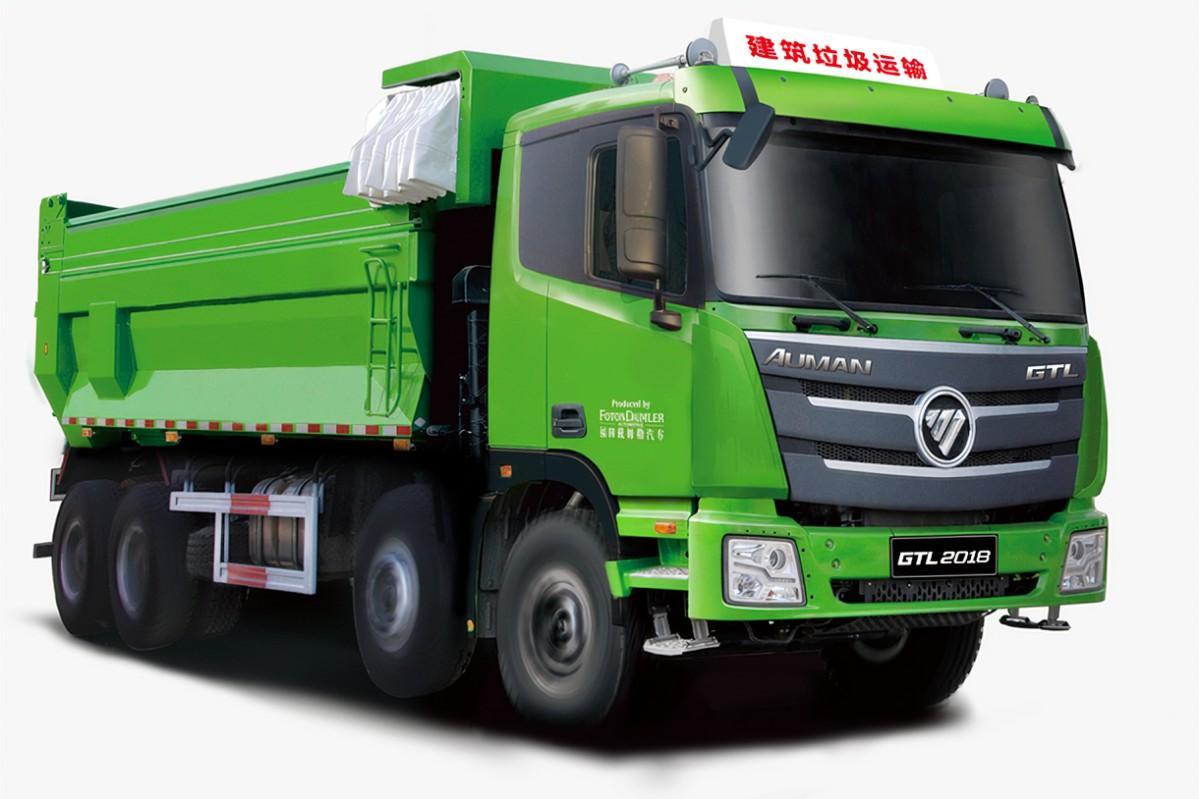truck: (7, 28, 1110, 749)
